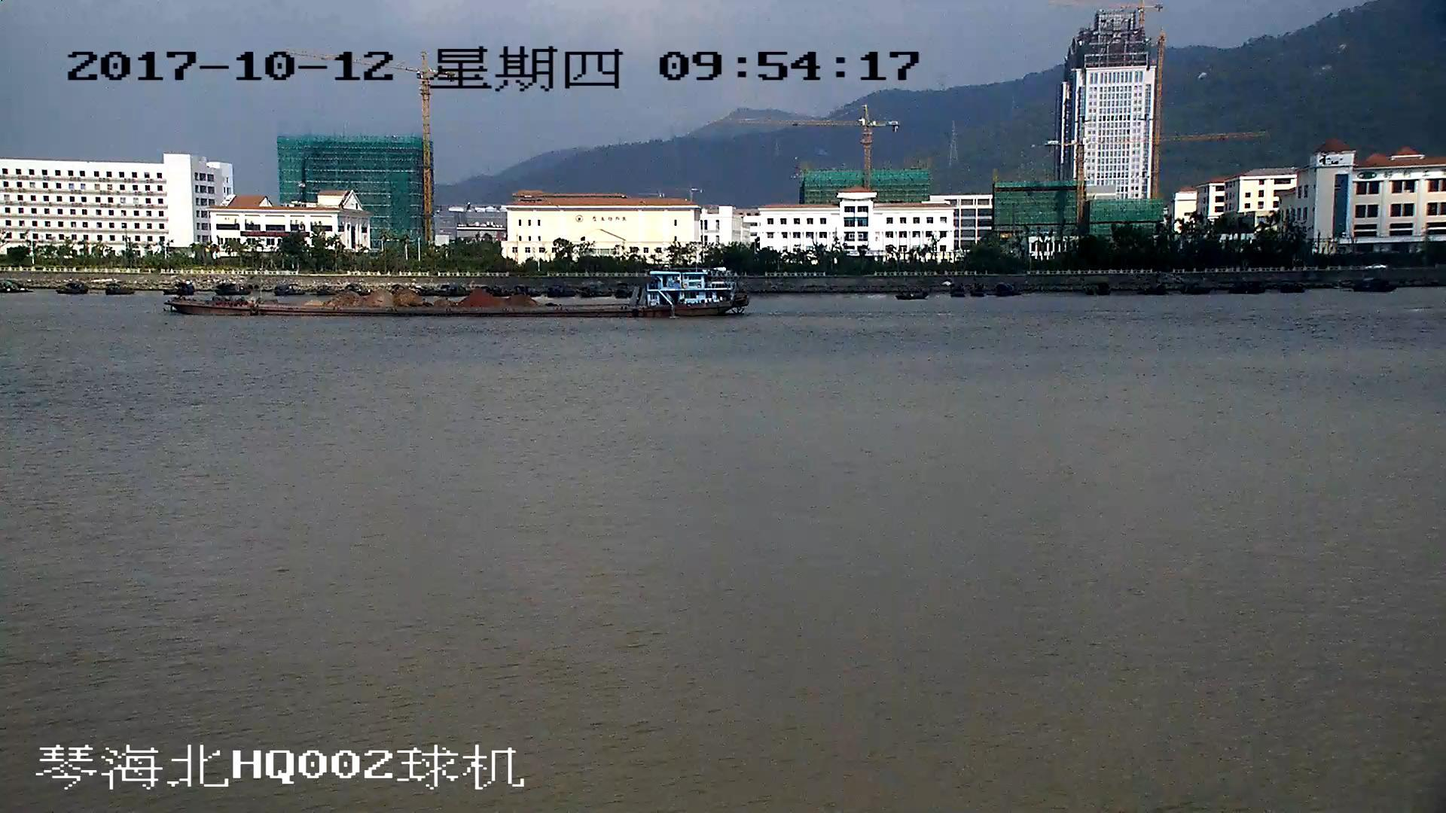ore carrier: (170, 264, 740, 317)
